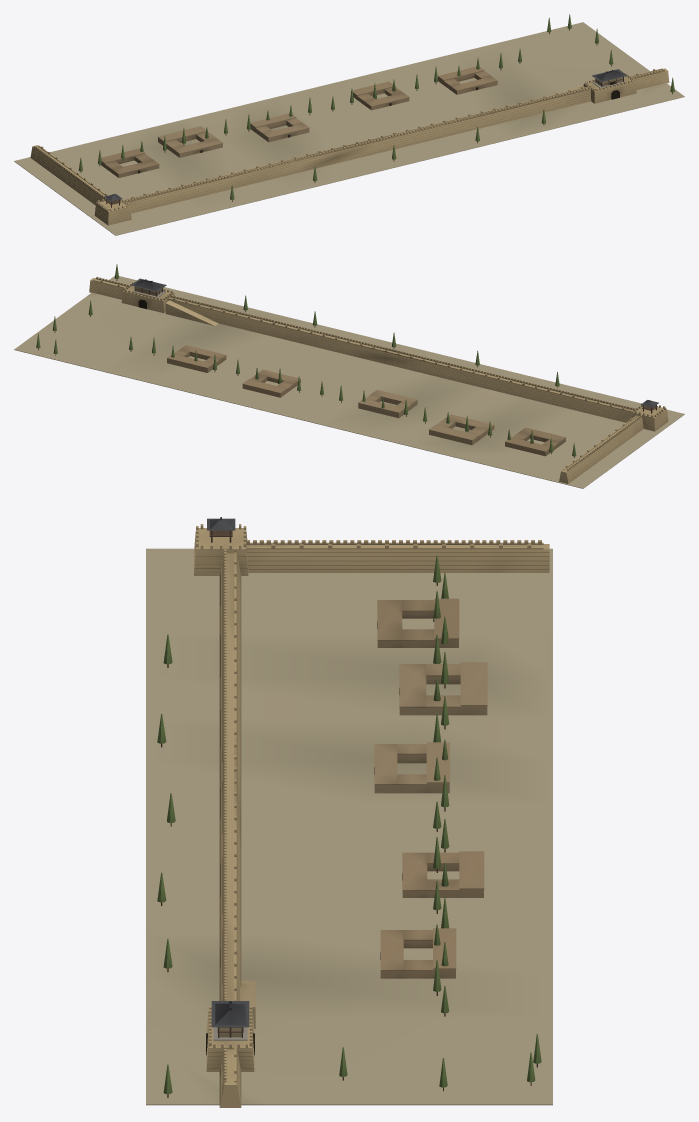
The model's file is shazhou-gate-han.glb.
The picture shows the model from 3 angles, top to bottom: view 1: azimuth 30°, elevation 25°; view 2: azimuth 150°, elevation 25°; view 3: azimuth 270°, elevation 25°; orthographic projection. The views are drawn at different scales.
Visible parts, largest first — view 1: p0_gates, p1_houses, p2_trees; view 2: p0_gates, p1_houses, p2_trees; view 3: p0_gates, p1_houses, p2_trees.
Part boxes in pixels (left/top/right/bottom): p0_gates: left=14, top=22, right=684, bottom=235; p1_houses: left=101, top=66, right=625, bottom=207; p2_trees: left=78, top=14, right=674, bottom=201; p0_gates: left=14, top=276, right=684, bottom=488; p1_houses: left=133, top=286, right=657, bottom=456; p2_trees: left=36, top=264, right=658, bottom=457; p0_gates: left=146, top=524, right=552, bottom=1107; p1_houses: left=209, top=530, right=487, bottom=1040; p2_trees: left=157, top=517, right=541, bottom=1097.
Size of the model in its own units: 422 by 16.9 by 130.
